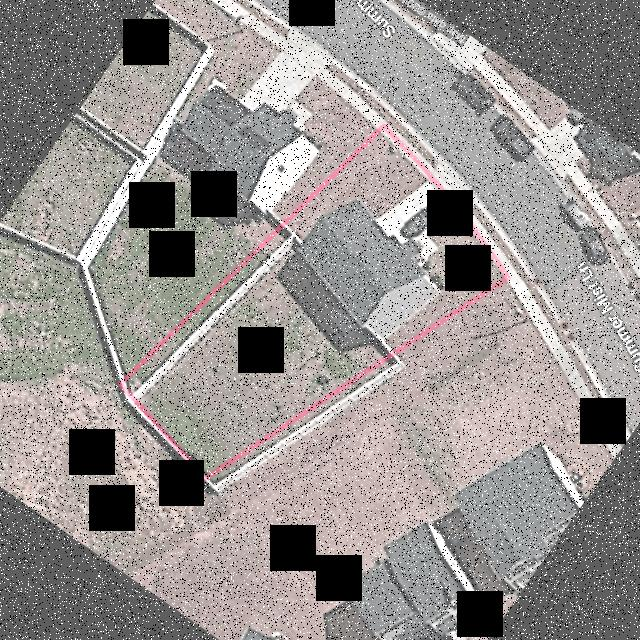Driveway: (374, 180, 455, 264)
Extra Driveway: (432, 161, 472, 207)
Extra Lawn: (467, 203, 524, 273), (385, 113, 437, 167)
Extra Sidewalk: (462, 205, 518, 276), (381, 117, 434, 170)
House: (297, 200, 440, 336)
